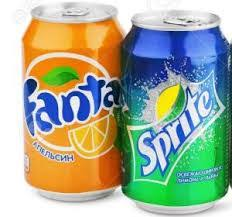fanta: (24, 6, 120, 200)
